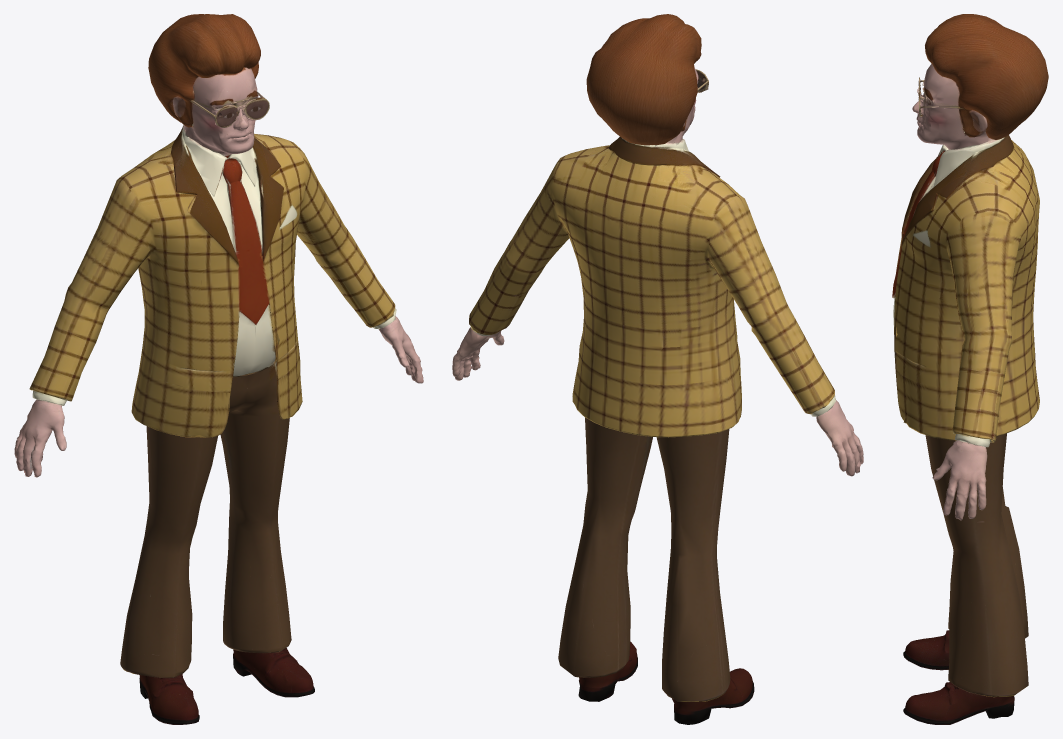
File: myyja_meshy.glb
3 renders of one model, left to right at view 1: azimuth 30°, elevation 25°; view 2: azimuth 150°, elevation 25°; view 3: azimuth 270°, elevation 25°, orthographic.
Bounding box in the file's own units: 1.06 × 1.72 × 0.365.
1 material, 1 textured.
